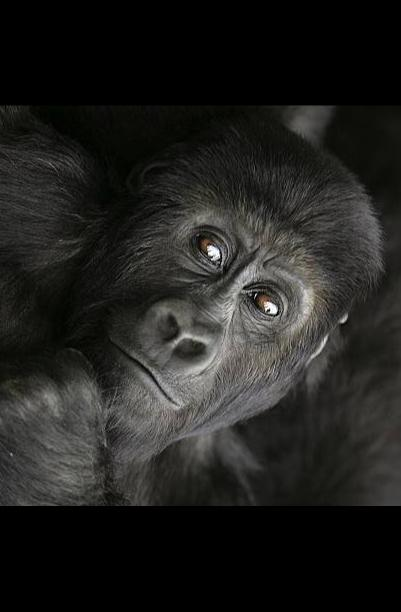gorille_Autres: (0, 110, 401, 505)
